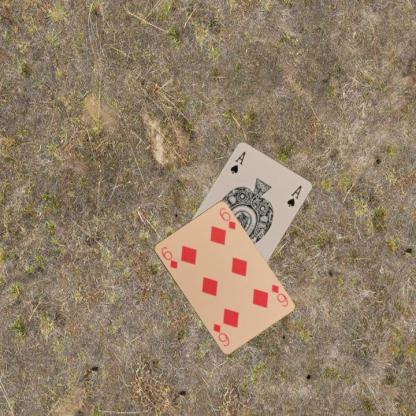6d: (269, 281, 289, 308), (158, 244, 178, 270)
As: (228, 149, 246, 175)
